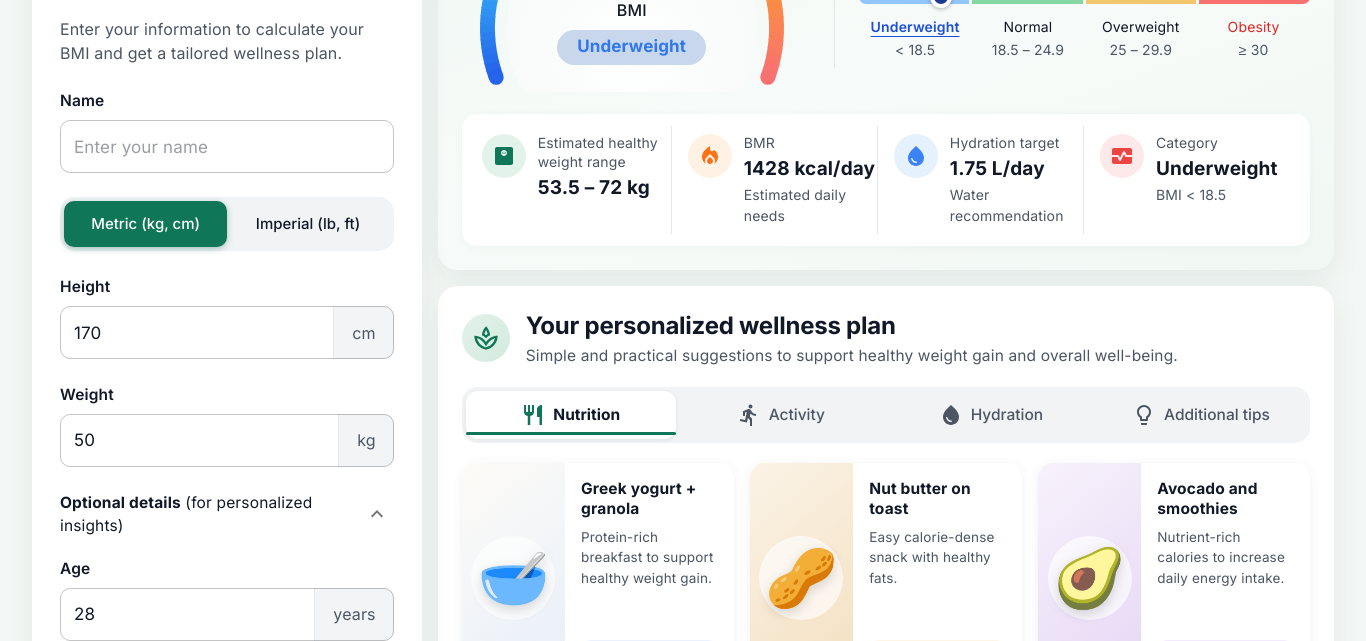
Scenario: BmiApp › shows a Cut back tab with foods to limit for weight-loss results
(page scrolled)
Check: the tab "Cut back" is not shown
Replace the text in the field named "Weight in kilograms" with "80" at (195, 440), box x1=60 y1=414 x2=330 y2=466
(page scrolled)
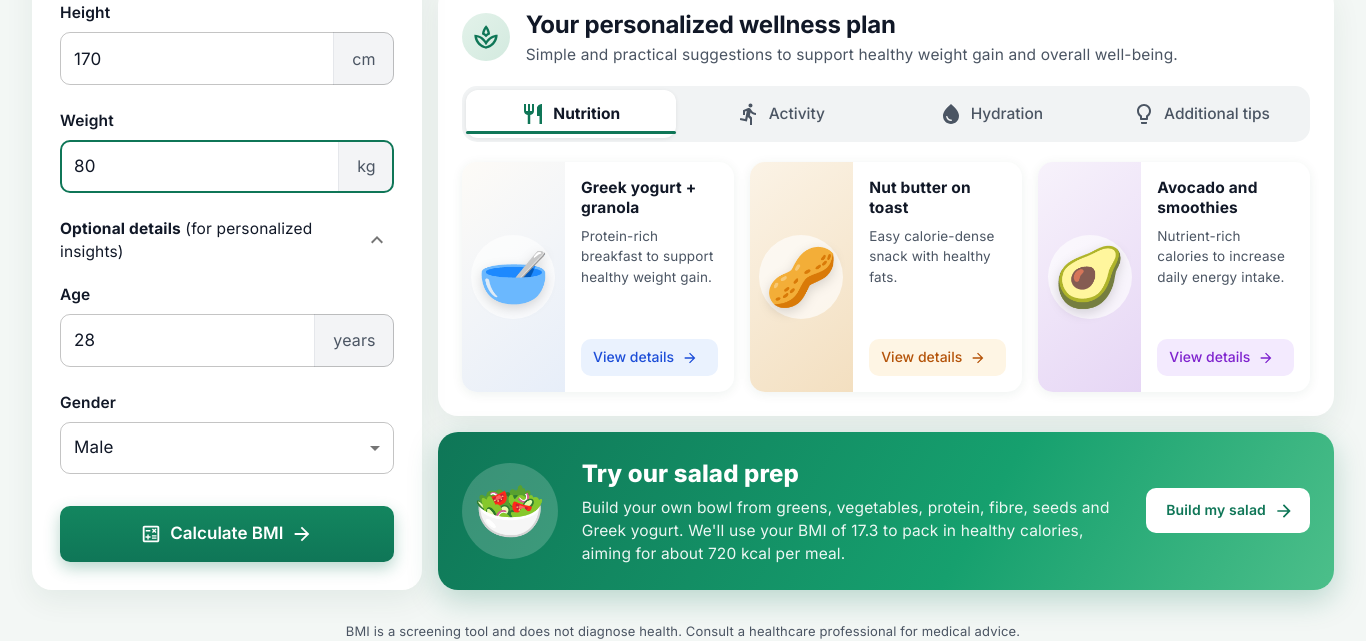
Click the button "Calculate BMI" at (227, 534), box x1=60 y1=506 x2=394 y2=562
(page scrolled)
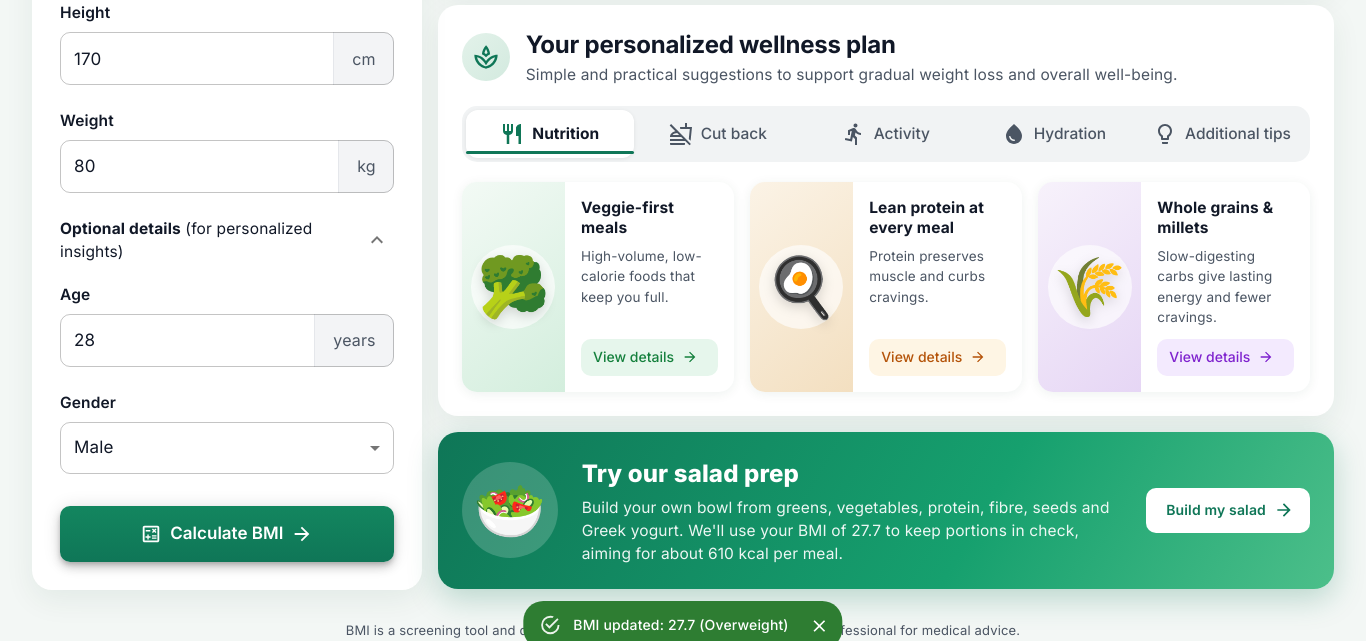
Click the tab "Cut back" at (718, 134), box x1=634 y1=110 x2=802 y2=158
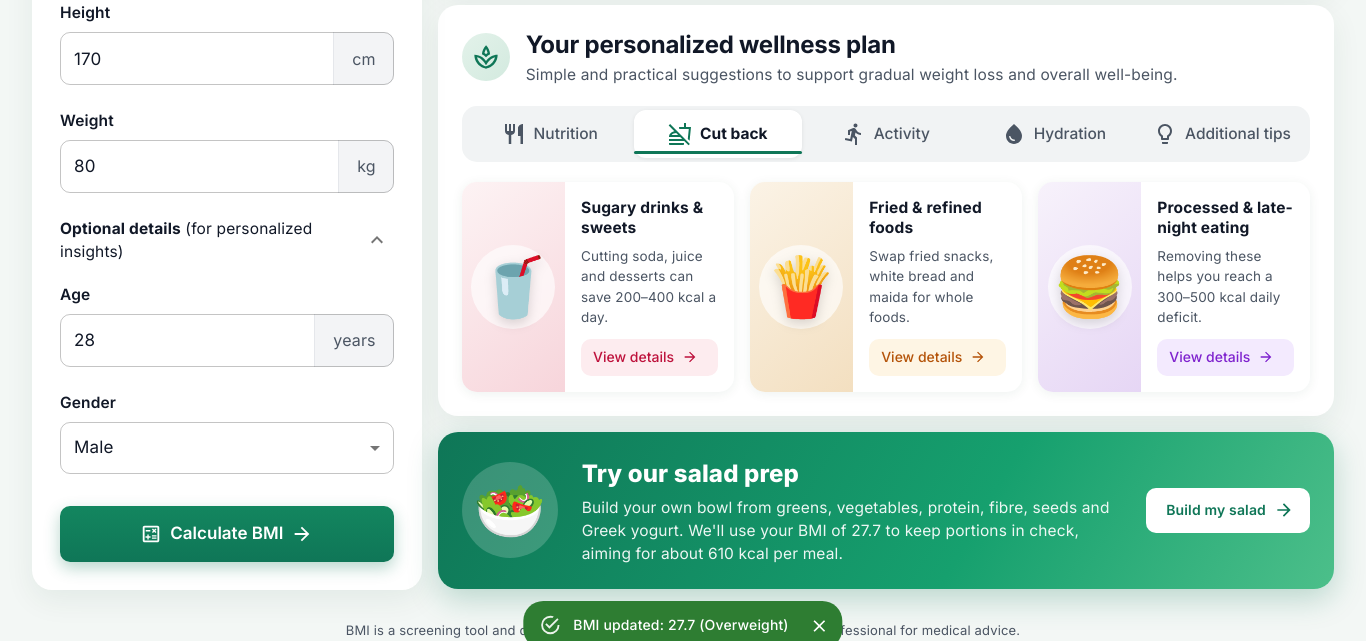
Check: the button with aria-label "View details: Sugary drinks & sweets" is shown, box x1=581 y1=339 x2=718 y2=376
